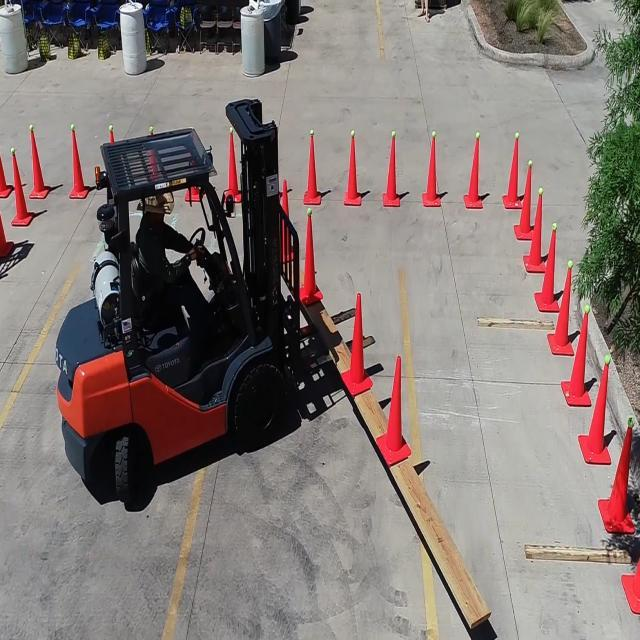driver: (128, 190, 219, 339)
forklift: (53, 101, 310, 518)
